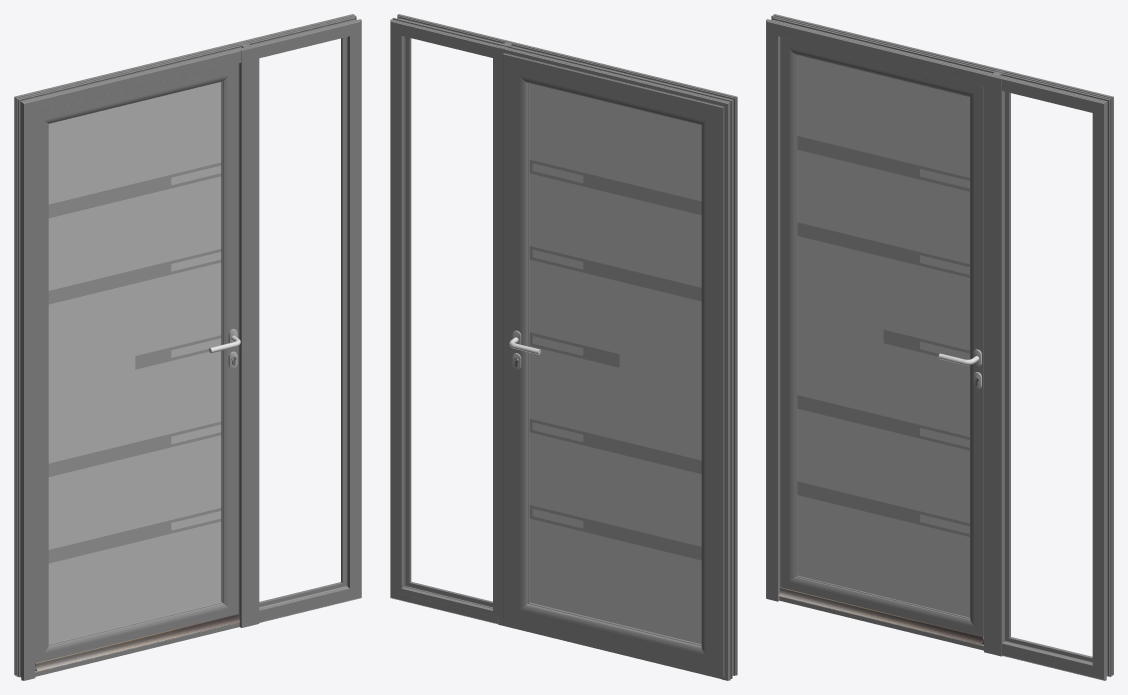
The picture shows the model from 3 angles, left to right: view 1: azimuth 30°, elevation 25°; view 2: azimuth 150°, elevation 25°; view 3: azimuth 330°, elevation 25°; orthographic projection.
Parts seen in each view (by area): view 1: fosco_33, aroFixo, aroMovel, montanteCentral, transparente_33, bite, borracha, escovas, rodaPe; view 2: fosco_33, aroMovel, aroFixo, transparente_33, bite, montanteCentral, borracha, rodaPe; view 3: fosco_33, aroFixo, aroMovel, montanteCentral, transparente_33, bite, escovas, borracha, rodaPe.
Part boxes in pixels (<box>): fosco_33: <box>48,82,221,643</box>; aroFixo: <box>14,14,361,680</box>; aroMovel: <box>35,63,238,663</box>; montanteCentral: <box>238,42,259,627</box>; transparente_33: <box>48,162,221,563</box>; bite: <box>259,37,346,607</box>; borracha: <box>259,37,345,606</box>; escovas: <box>35,614,240,671</box>; rodaPe: <box>35,622,239,676</box>; fosco_33: <box>529,83,701,644</box>; aroMovel: <box>503,53,724,677</box>; aroFixo: <box>390,14,737,680</box>; transparente_33: <box>529,159,701,560</box>; bite: <box>396,29,498,617</box>; montanteCentral: <box>498,40,518,626</box>; borracha: <box>404,36,492,608</box>; rodaPe: <box>505,624,721,679</box>; fosco_33: <box>797,55,969,617</box>; aroFixo: <box>766,14,1113,680</box>; aroMovel: <box>780,37,983,638</box>; montanteCentral: <box>984,70,1004,656</box>; transparente_33: <box>797,136,969,536</box>; bite: <box>1005,91,1092,661</box>; escovas: <box>778,587,983,645</box>; borracha: <box>1006,92,1092,660</box>; rodaPe: <box>779,596,983,650</box>.
Size of the model in its own units: 1320 by 2149 by 185.
10 materials, 4 textured.
